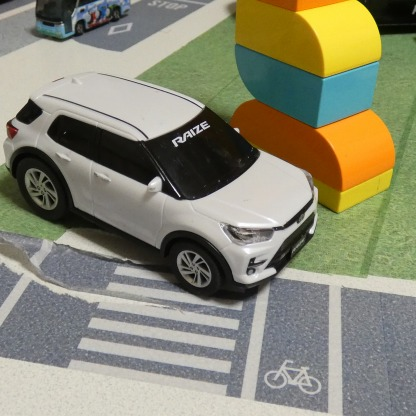car: (4, 70, 320, 300), (31, 0, 133, 41)
